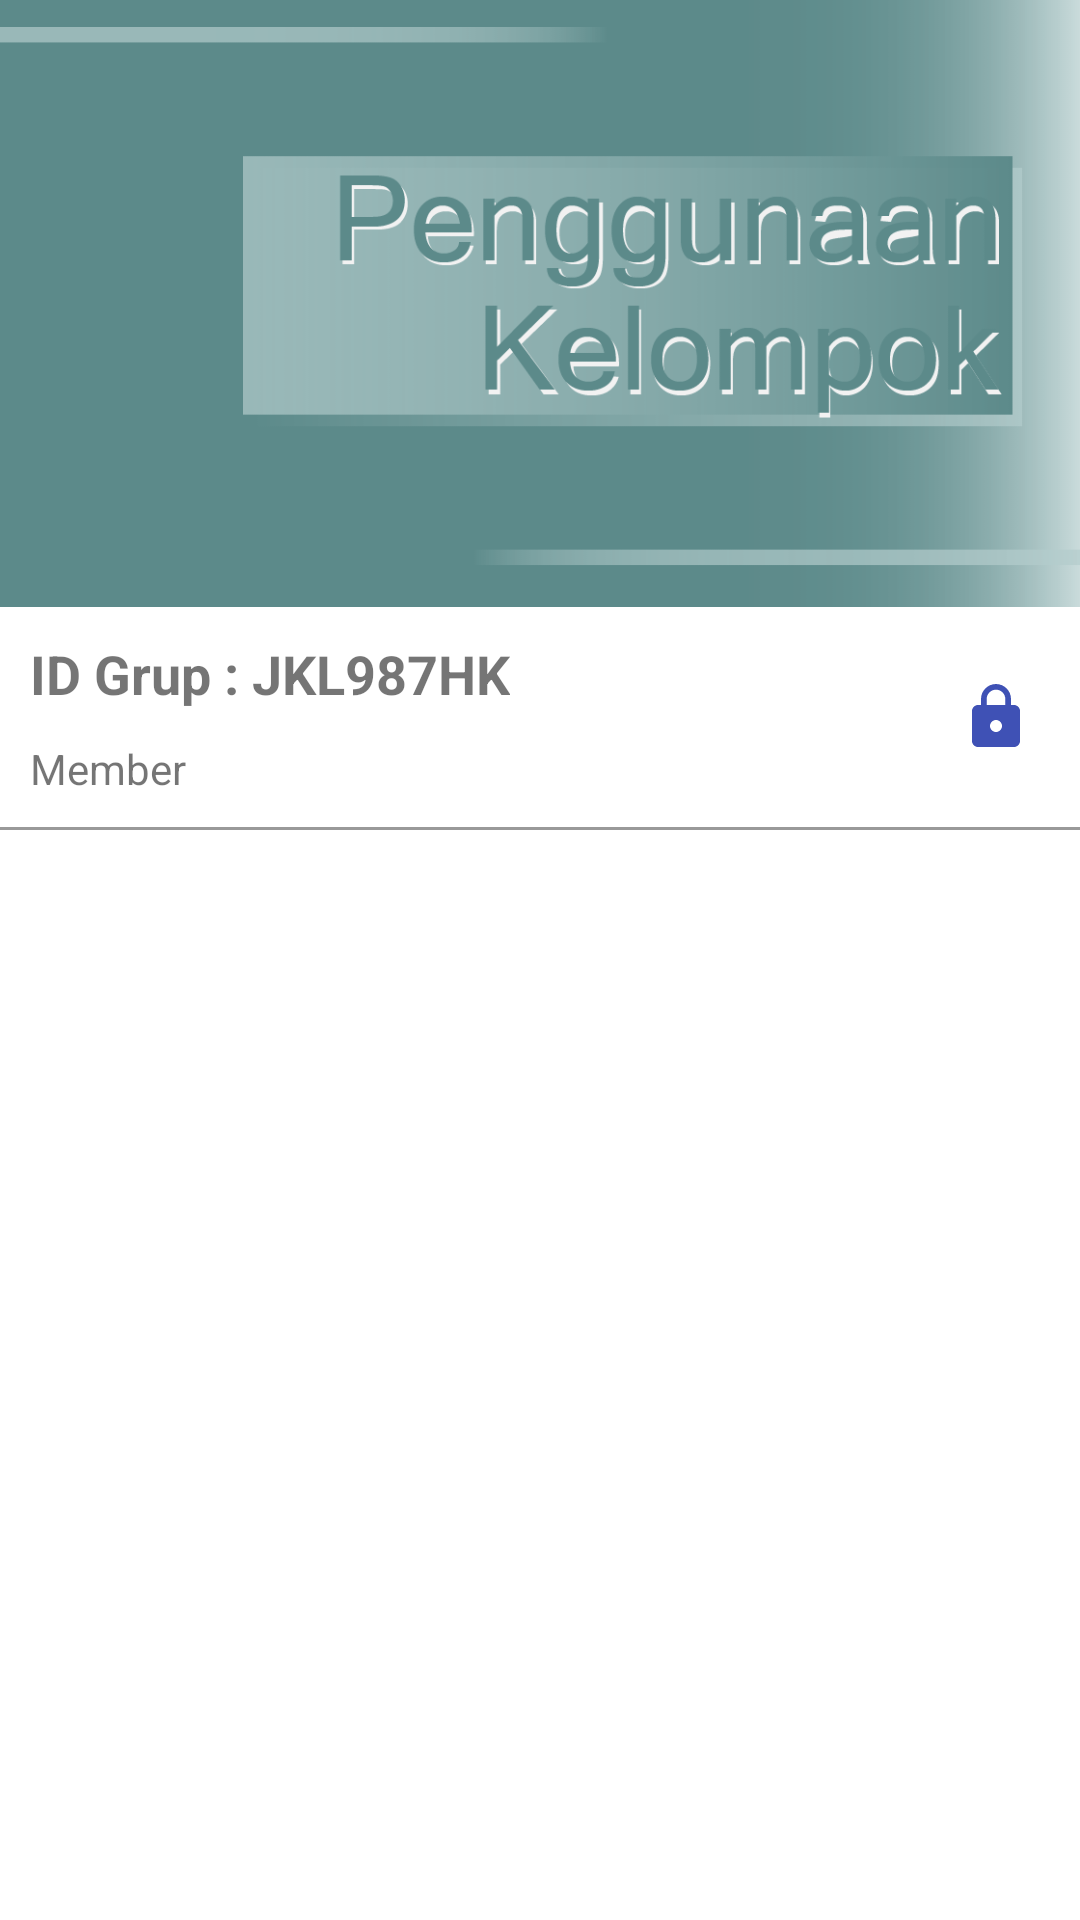

Named icons in this screenshot (1080w x 1920h) and their bounding boxes, {"x1": x1, "y1": y1, "x2": x2, "y2": y2}:
lock: {"x1": 972, "y1": 684, "x2": 1020, "y2": 747}
